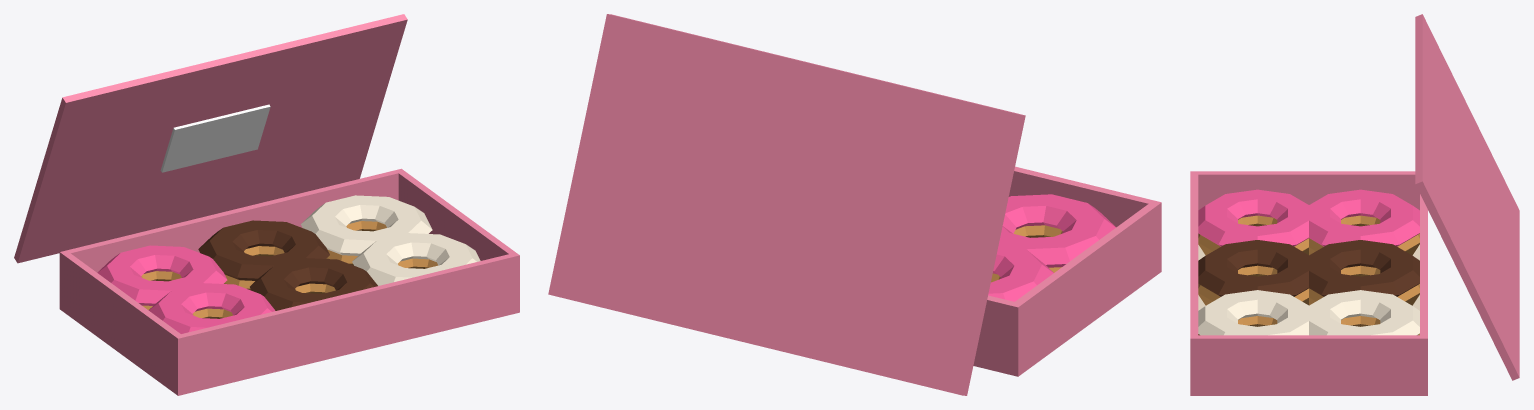
File: guard_donut_box.glb
The picture shows the model from 3 angles, left to right: view 1: azimuth 30°, elevation 25°; view 2: azimuth 150°, elevation 25°; view 3: azimuth 270°, elevation 25°; orthographic projection. The views are drawn at different scales.
Visible parts, largest first — view 1: lid_donut_box, box_donut_box, donut_2_icing_white, donut_1_icing_choco, donut_0_icing_pink, lid_donut_logo, donut_5_icing_white, donut_4_icing_choco, donut_3_icing_pink, donut_1_donut_dough, donut_2_donut_dough; view 2: lid_donut_box, box_donut_box, donut_3_icing_pink, donut_0_icing_pink, donut_3_donut_dough; view 3: box_donut_box, lid_donut_box, donut_0_icing_pink, donut_1_icing_choco, donut_3_icing_pink, donut_4_icing_choco, donut_2_icing_white, donut_5_icing_white, donut_1_donut_dough, donut_0_donut_dough, donut_3_donut_dough, donut_4_donut_dough (+2 smaller).
Part boxes in pixels (x1,y1,x2,y2): lid_donut_box: (14,14,407,263); box_donut_box: (59,168,519,395); donut_2_icing_white: (301,195,432,255); donut_1_icing_choco: (198,220,329,280); donut_0_icing_pink: (97,245,227,305); lid_donut_logo: (160,104,270,172); donut_5_icing_white: (352,233,480,285); donut_4_icing_choco: (250,258,377,310); donut_3_icing_pink: (148,283,275,333); donut_1_donut_dough: (224,246,284,290); donut_2_donut_dough: (326,221,386,265); lid_donut_box: (548,14,1025,395); box_donut_box: (973,166,1161,376); donut_3_icing_pink: (999,194,1115,267); donut_0_icing_pink: (988,243,1053,301); donut_3_donut_dough: (1013,225,1062,272); box_donut_box: (1190,171,1427,395); lid_donut_box: (1415,14,1519,380); donut_0_icing_pink: (1308,189,1419,246); donut_1_icing_choco: (1308,240,1419,296); donut_3_icing_pink: (1198,189,1309,246); donut_4_icing_choco: (1198,240,1308,296); donut_2_icing_white: (1308,290,1419,335); donut_5_icing_white: (1198,290,1309,335); donut_1_donut_dough: (1309,265,1419,305); donut_0_donut_dough: (1309,215,1419,255); donut_3_donut_dough: (1198,215,1308,255); donut_4_donut_dough: (1198,265,1308,305).
Size of the model in its own units: 0.5 by 0.299 by 0.4158.
